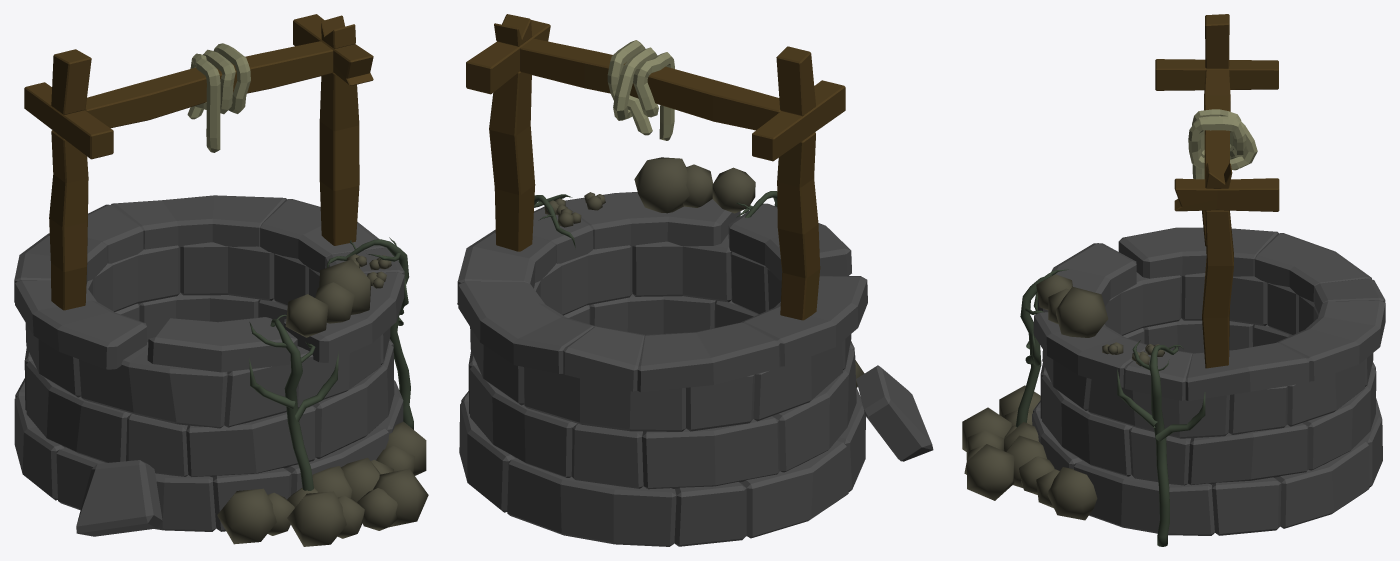
File: WellDirty.fbx
3 views of the same model, side by side, from view 1: azimuth 30°, elevation 25°; view 2: azimuth 150°, elevation 25°; view 3: azimuth 270°, elevation 25° (orthographic). The views are drawn at different scales.
Visible parts, largest first — view 1: Cube.004, Cube, Cube.003, Cube.002, Rocks, Cube.001, Cylinder, Root.001, Root; view 2: Cube.004, Cube, Cube.003, Cube.002, Cube.001, Rocks, Cylinder; view 3: Cube.004, Cube.002, Cube.003, Cube.001, Cube, Rocks, Root, Cylinder, Root.001.
Boxes of the visible parts, <box> form: Cube.004: <box>14,195,404,536</box>; Cube: <box>24,14,373,310</box>; Cube.003: <box>25,242,390,428</box>; Cube.002: <box>24,292,394,477</box>; Rocks: <box>217,254,428,546</box>; Cube.001: <box>14,378,403,531</box>; Cylinder: <box>187,43,250,152</box>; Root.001: <box>249,314,338,490</box>; Root: <box>327,237,413,429</box>; Cube.004: <box>457,192,933,461</box>; Cube: <box>466,14,845,320</box>; Cube.003: <box>470,234,851,431</box>; Cube.002: <box>468,294,856,489</box>; Cube.001: <box>459,387,865,546</box>; Rocks: <box>544,157,864,387</box>; Cylinder: <box>607,40,674,140</box>; Cube.004: <box>1033,227,1385,401</box>; Cube.002: <box>1040,318,1376,485</box>; Cube.003: <box>1042,272,1373,438</box>; Cube.001: <box>1032,398,1382,535</box>; Cube: <box>1155,14,1279,368</box>; Rocks: <box>962,274,1164,520</box>; Root: <box>1117,340,1205,546</box>; Cylinder: <box>1188,109,1257,179</box>; Root.001: <box>1015,269,1068,427</box>.
Size of the model in its own units: 1512 by 1650 by 1624.
